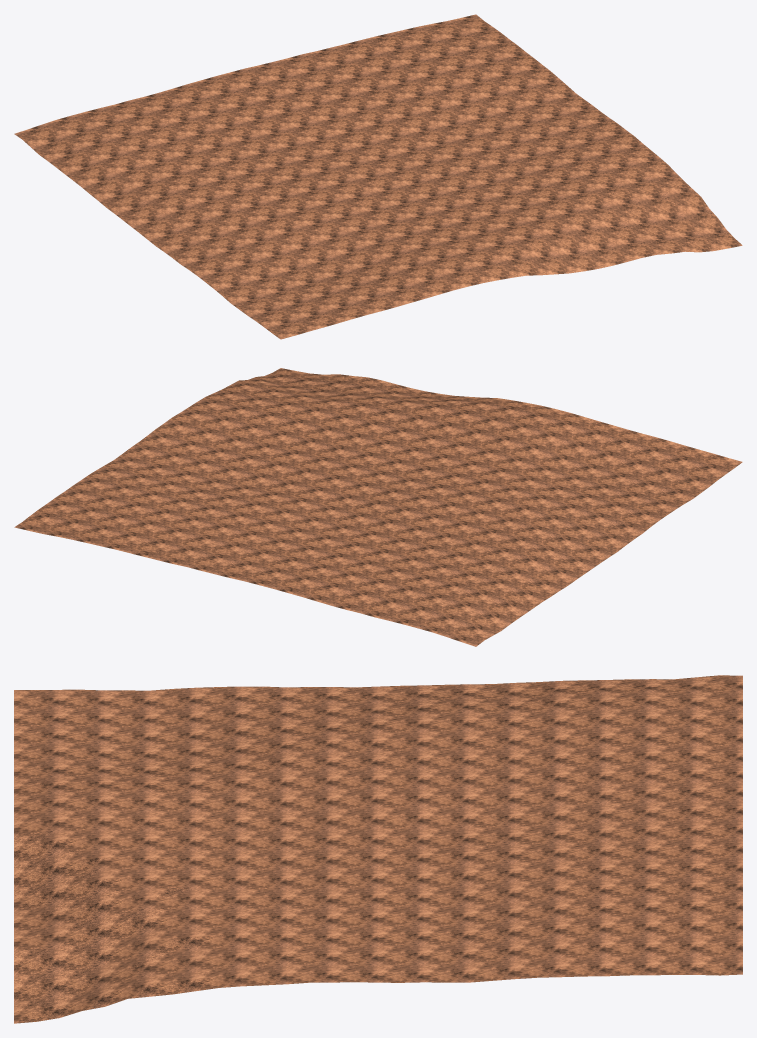
The model's file is terrain_11_16.dae.
3 renders of one model, top to bottom at view 1: azimuth 30°, elevation 25°; view 2: azimuth 150°, elevation 25°; view 3: azimuth 270°, elevation 25°, orthographic. The views are drawn at different scales.
Visible parts, largest first — view 1: terrain_11_16-node; view 2: terrain_11_16-node; view 3: terrain_11_16-node.
Part boxes in pixels (left/top/right/bottom): terrain_11_16-node: left=14, top=14, right=742, bottom=339; terrain_11_16-node: left=14, top=368, right=742, bottom=646; terrain_11_16-node: left=14, top=675, right=742, bottom=1023.
Size of the model in its own units: 128 by 128 by 10.19.
1 material, 1 textured.
